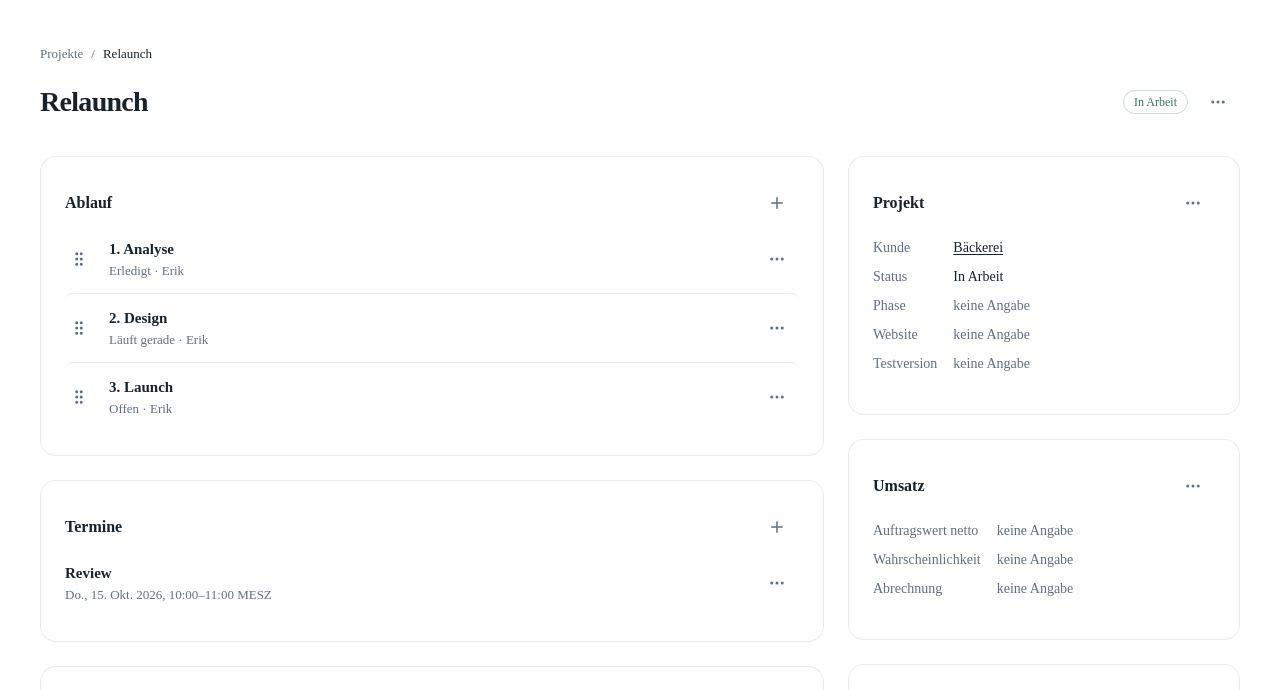
Löschen › AK-2/AK-3: eigene Rückfrage, Abbrechen löscht nichts, Bestätigen löscht und führt zur Liste
What coordinates should you click on to do the following:
click the button named "Aktionen: Relaunch"
I would click on:
 (1218, 102)
Its box is [1196,80,1240,124].
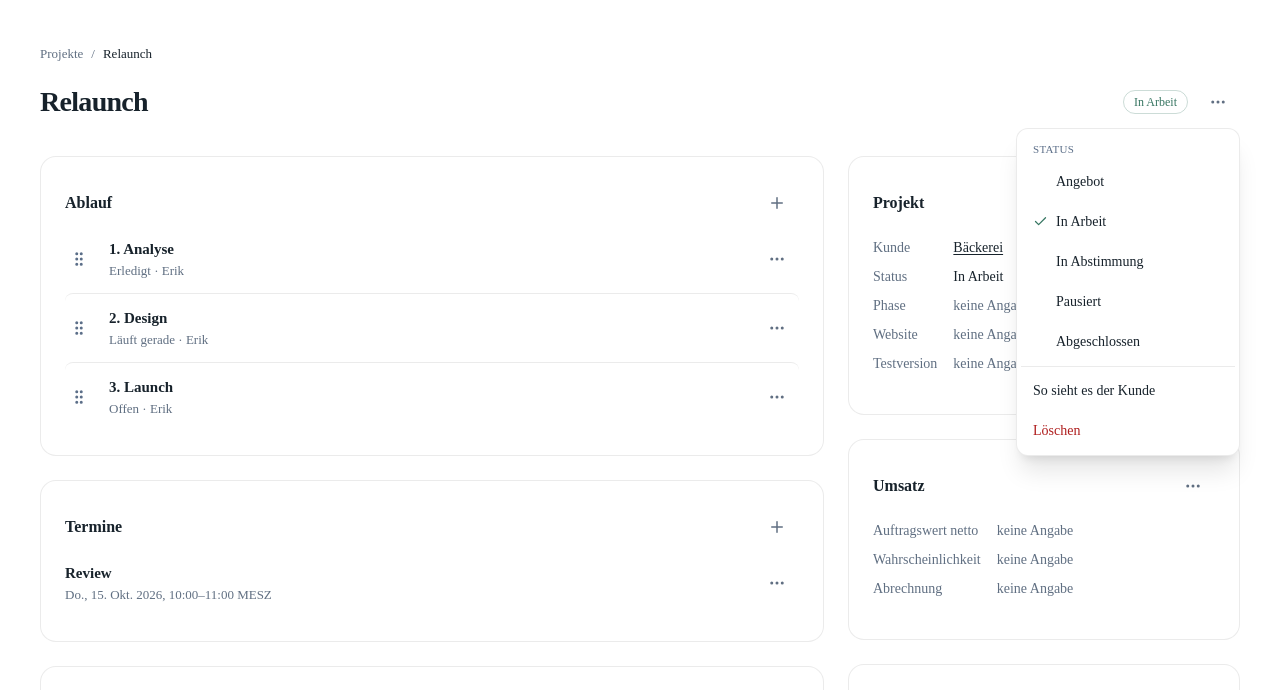
What coordinates should you click on to do the following:
click the menu item "Löschen"
I would click on:
 (1128, 430)
Its box is [1021,410,1235,450].
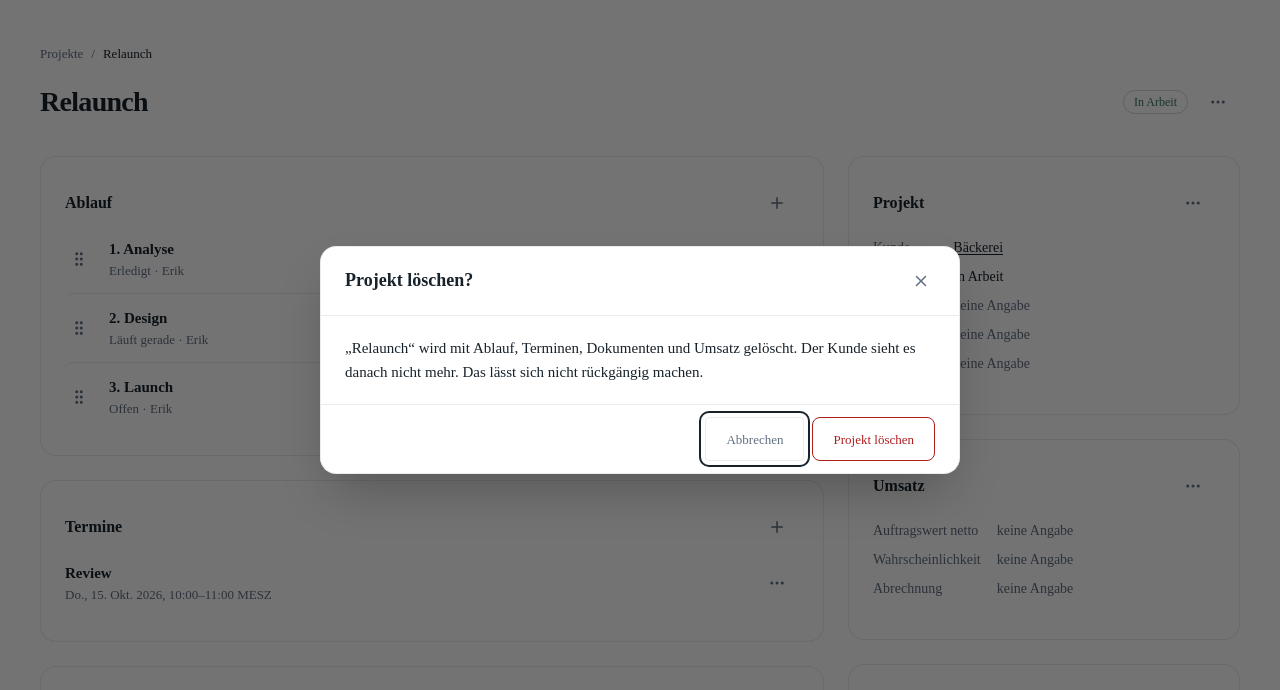
Check: the dialog "Projekt löschen?" shows "„Relaunch“ wird mit Ablauf, Terminen, Dokumenten und Umsatz gelöscht.", box [345,340,916,380]
Check: the buttons read "Abbrechen", "Projekt löschen", in this order
What coordinates should you click on to do the following:
click the button "Abbrechen"
I would click on:
 (755, 439)
Its box is [706,417,804,461].
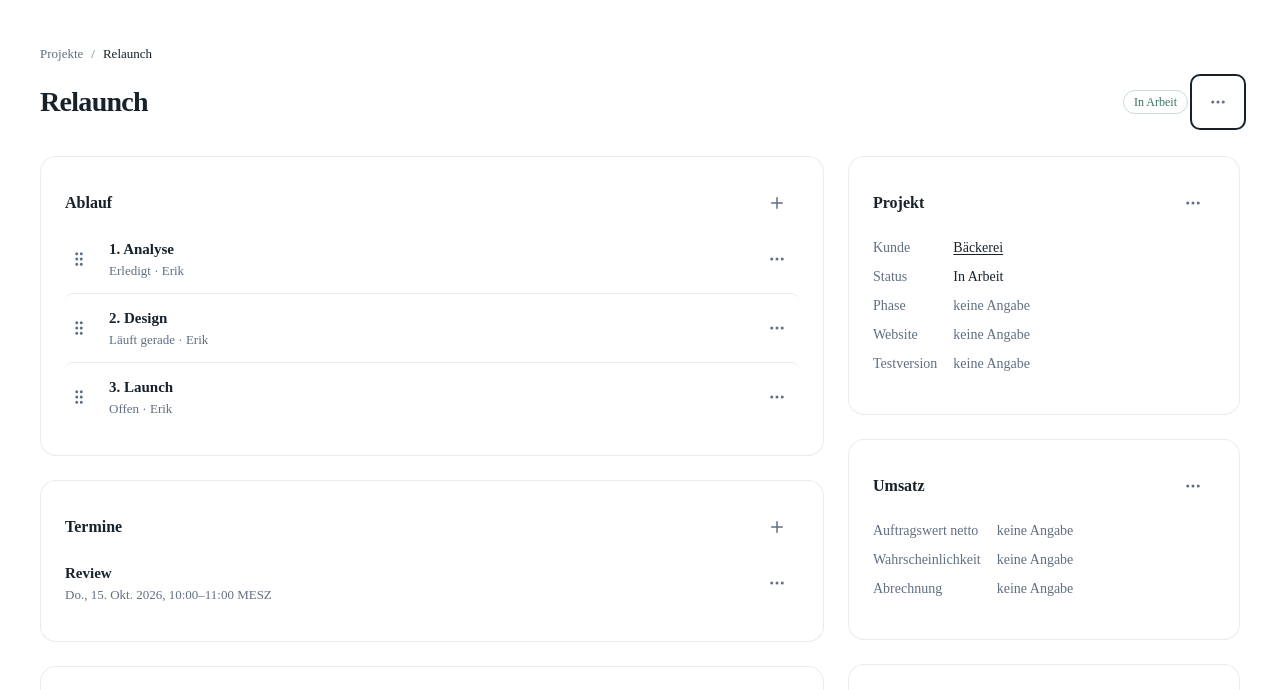
Check: the dialog is gone
What coordinates should you click on to do the following:
click the button named "Aktionen: Relaunch"
I would click on:
 (1218, 102)
Its box is [1196,80,1240,124].
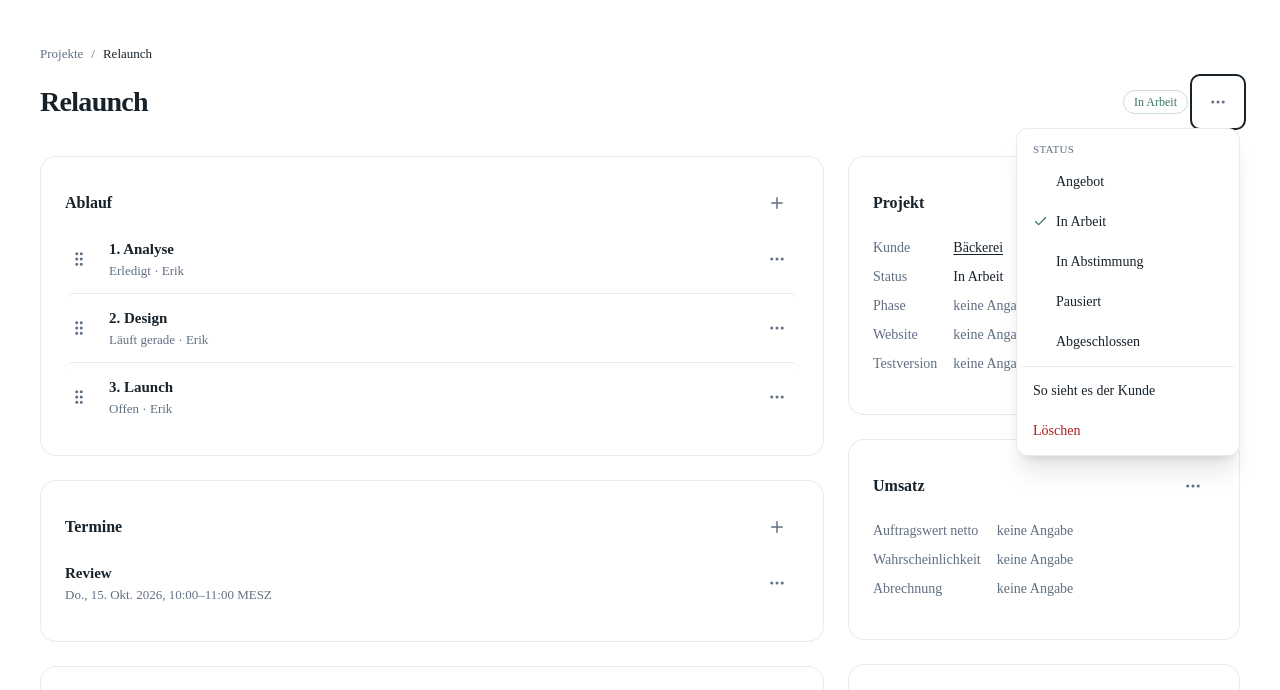
What coordinates should you click on to do the following:
click the menu item "Löschen"
I would click on:
 (1128, 430)
Its box is [1021,410,1235,450].
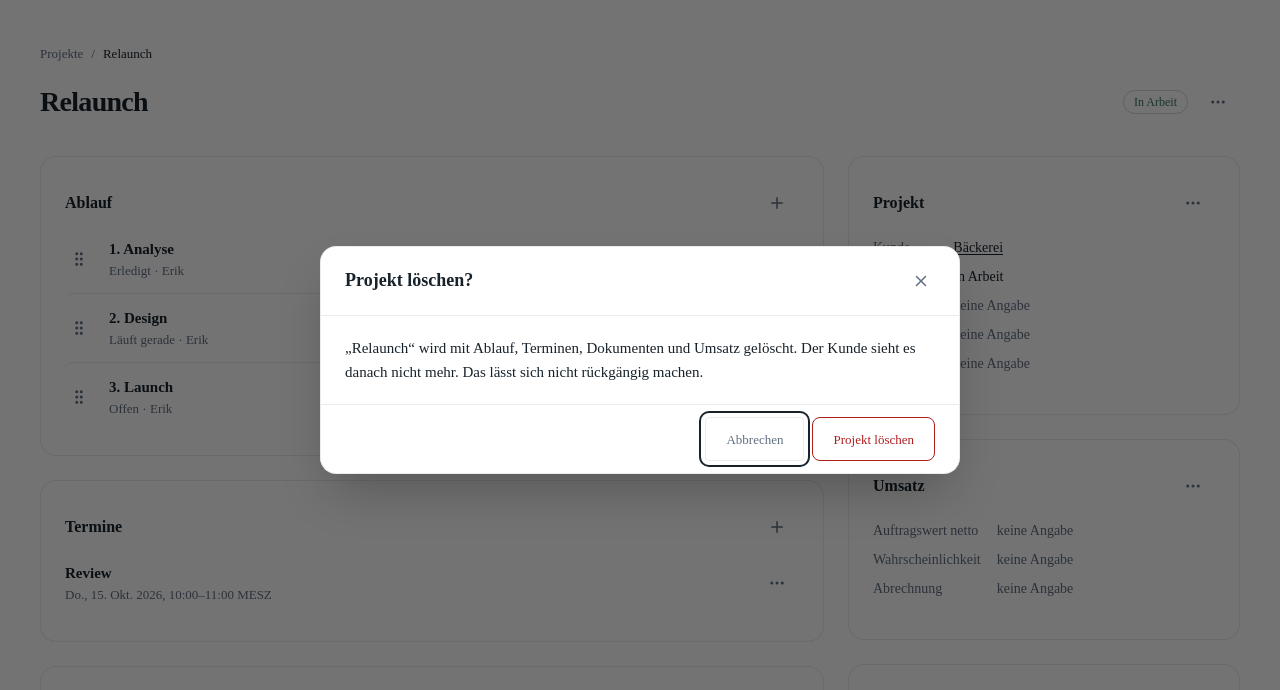
What coordinates should you click on to do the following:
click the button "Projekt löschen"
I would click on:
 (874, 439)
Its box is [812,417,935,461].
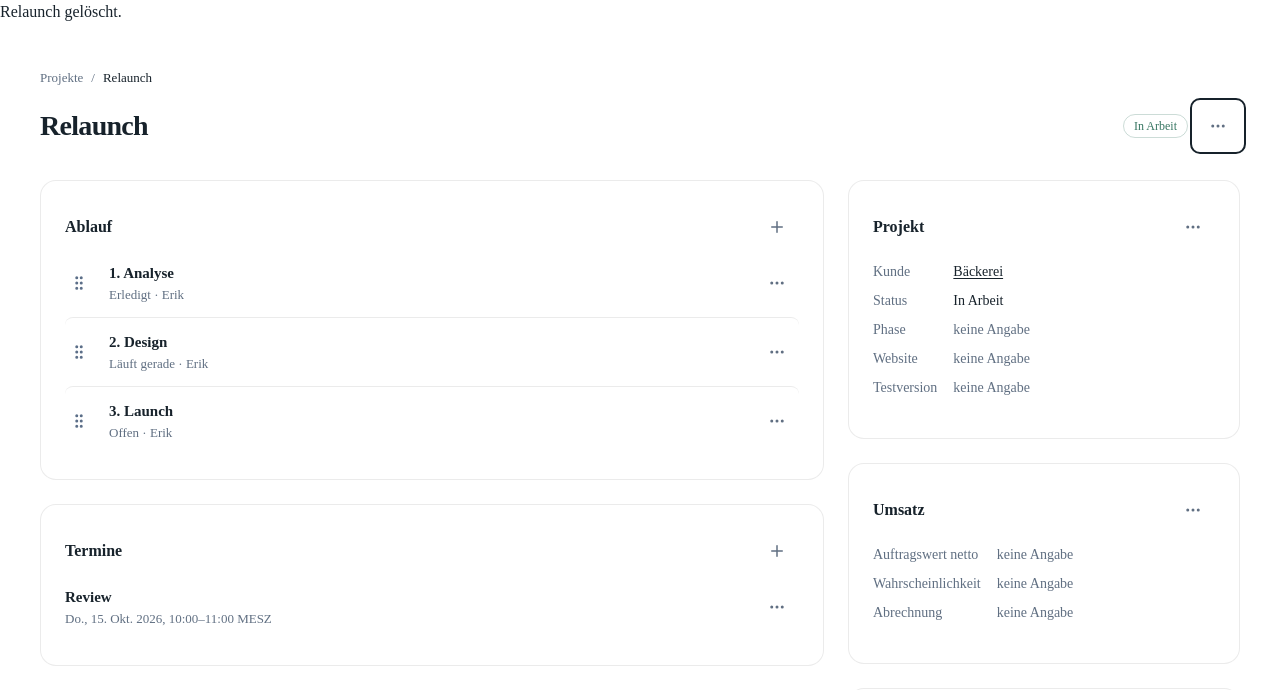
Check: the text with id "admin-meldung" reads "Relaunch gelöscht.", box [0,3,122,20]
